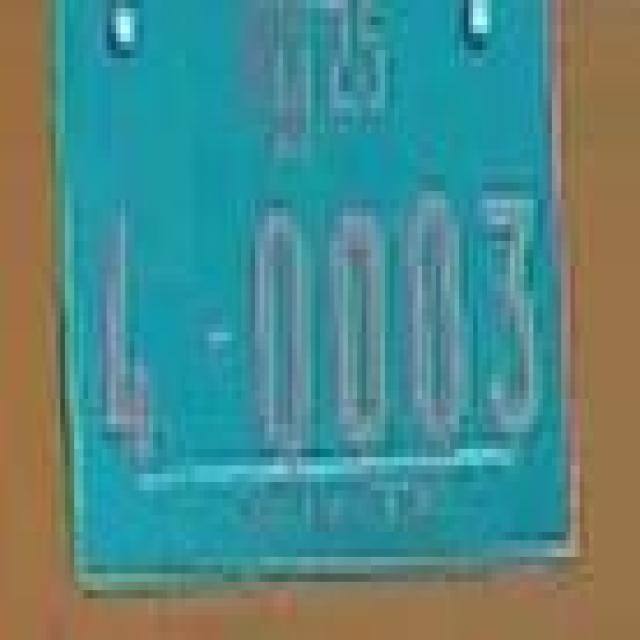State: (241, 0, 320, 173)
